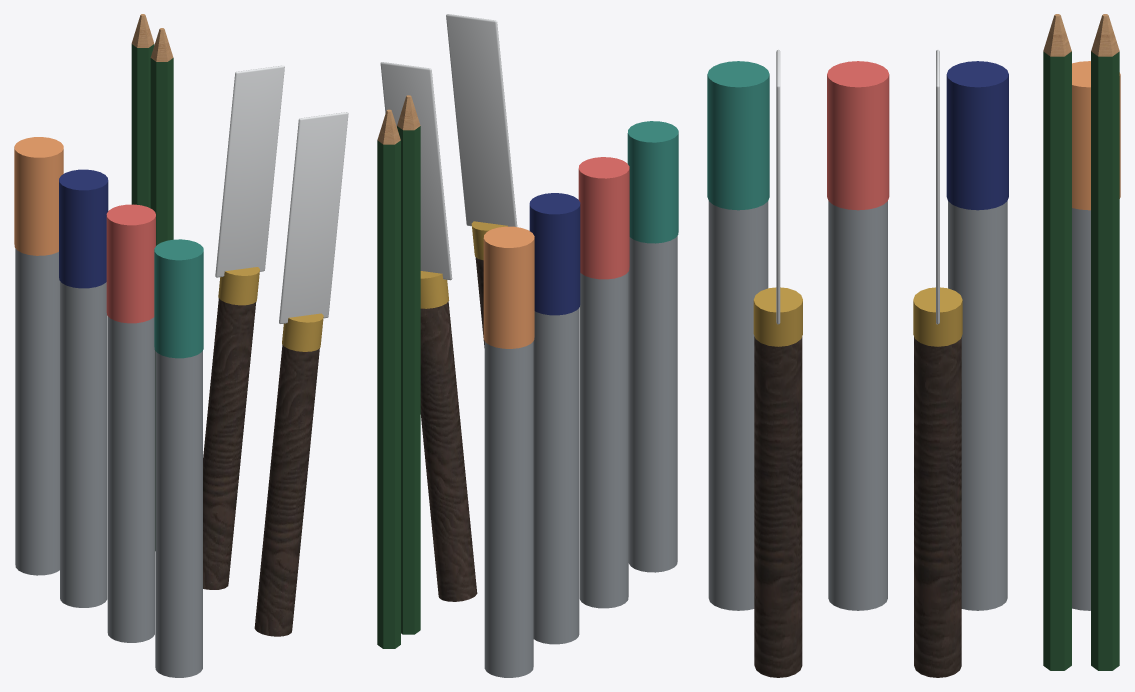
File: herodesk-art-tools.glb
3 renders of one model, left to right at view 1: azimuth 30°, elevation 25°; view 2: azimuth 150°, elevation 25°; view 3: azimuth 270°, elevation 25°, orthographic. The views are drawn at different scales.
Parts seen in each view (by area): view 1: herodesk-art-tools · mesh; view 2: herodesk-art-tools · mesh; view 3: herodesk-art-tools · mesh.
Part boxes in pixels (x1,y1,x2,y2): herodesk-art-tools · mesh: (14, 14, 348, 677); herodesk-art-tools · mesh: (377, 14, 678, 677); herodesk-art-tools · mesh: (707, 14, 1120, 677).
Size of the model in its own units: 0.075 by 0.1806 by 0.1036.
Materials: 10 (2 with a texture image).
